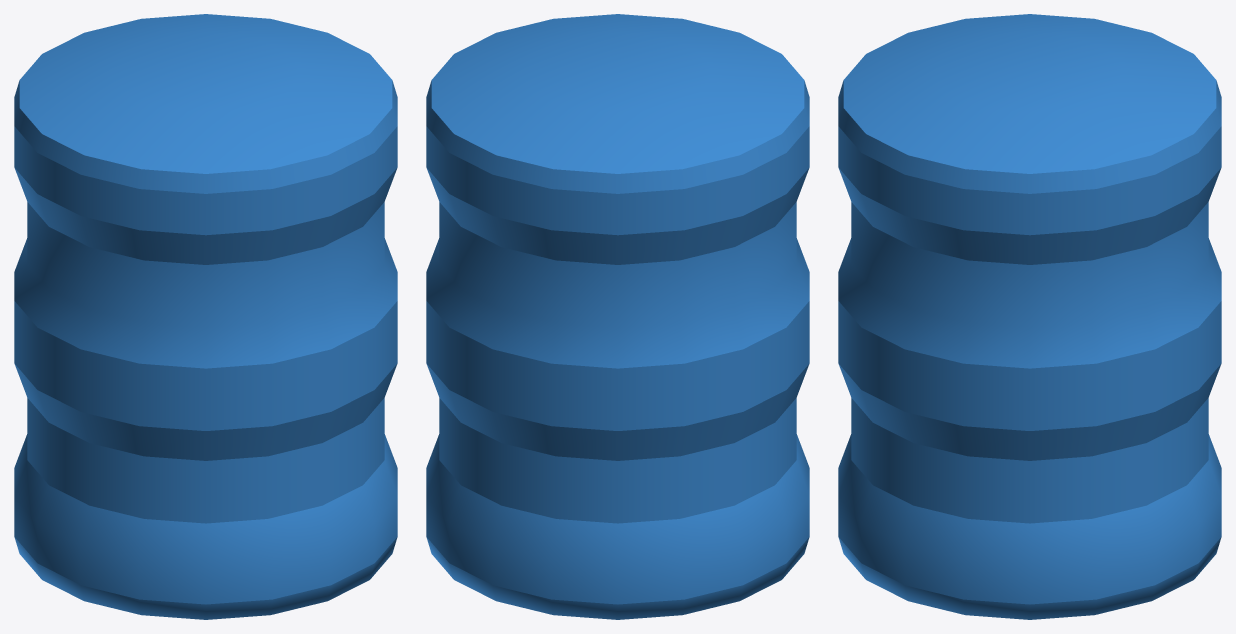
File: Prop_WaterCoolerTop.FBX
The picture shows the model from 3 angles, left to right: view 1: azimuth 30°, elevation 25°; view 2: azimuth 150°, elevation 25°; view 3: azimuth 270°, elevation 25°; orthographic projection.
Visible parts, largest first — view 1: Prop_WaterCoolerTop_001; view 2: Prop_WaterCoolerTop_001; view 3: Prop_WaterCoolerTop_001.
Part boxes in pixels (bbox=[...]): Prop_WaterCoolerTop_001: bbox=[14, 14, 397, 619]; Prop_WaterCoolerTop_001: bbox=[426, 14, 809, 619]; Prop_WaterCoolerTop_001: bbox=[838, 14, 1221, 619].
Bounding box in the file's own units: 0.2989 × 0.4354 × 0.2944.
